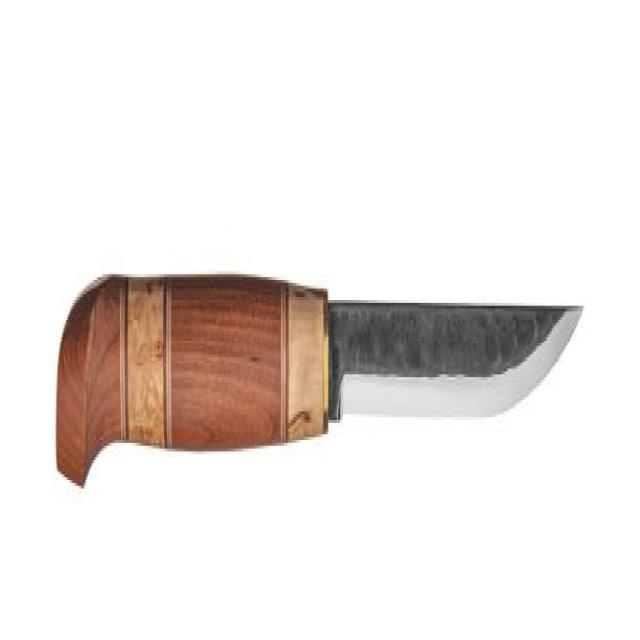knife: (51, 269, 588, 493)
